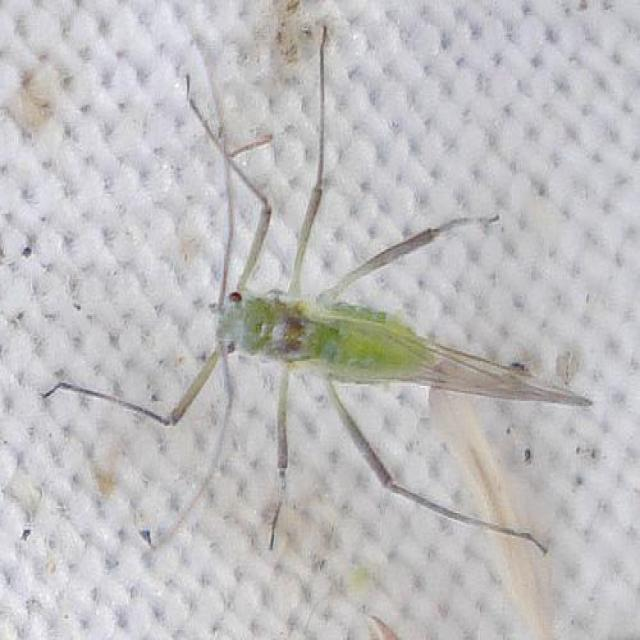Aphids: (72, 53, 620, 608)
